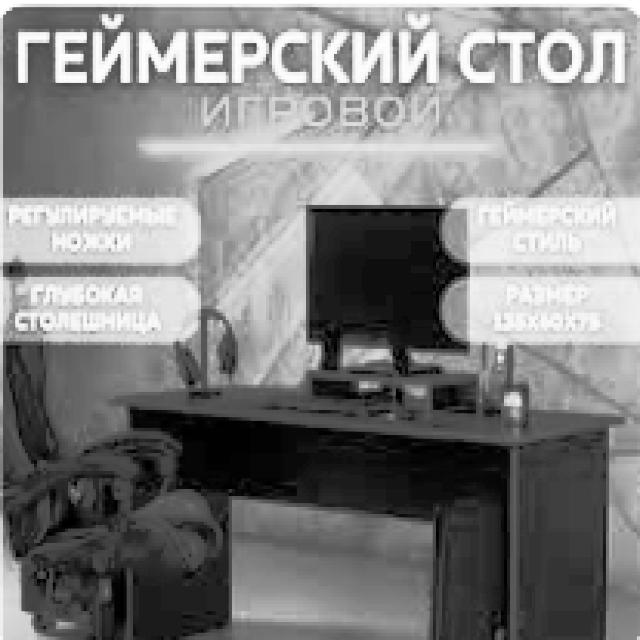book: (0, 263, 226, 636)
table: (108, 385, 625, 636)
